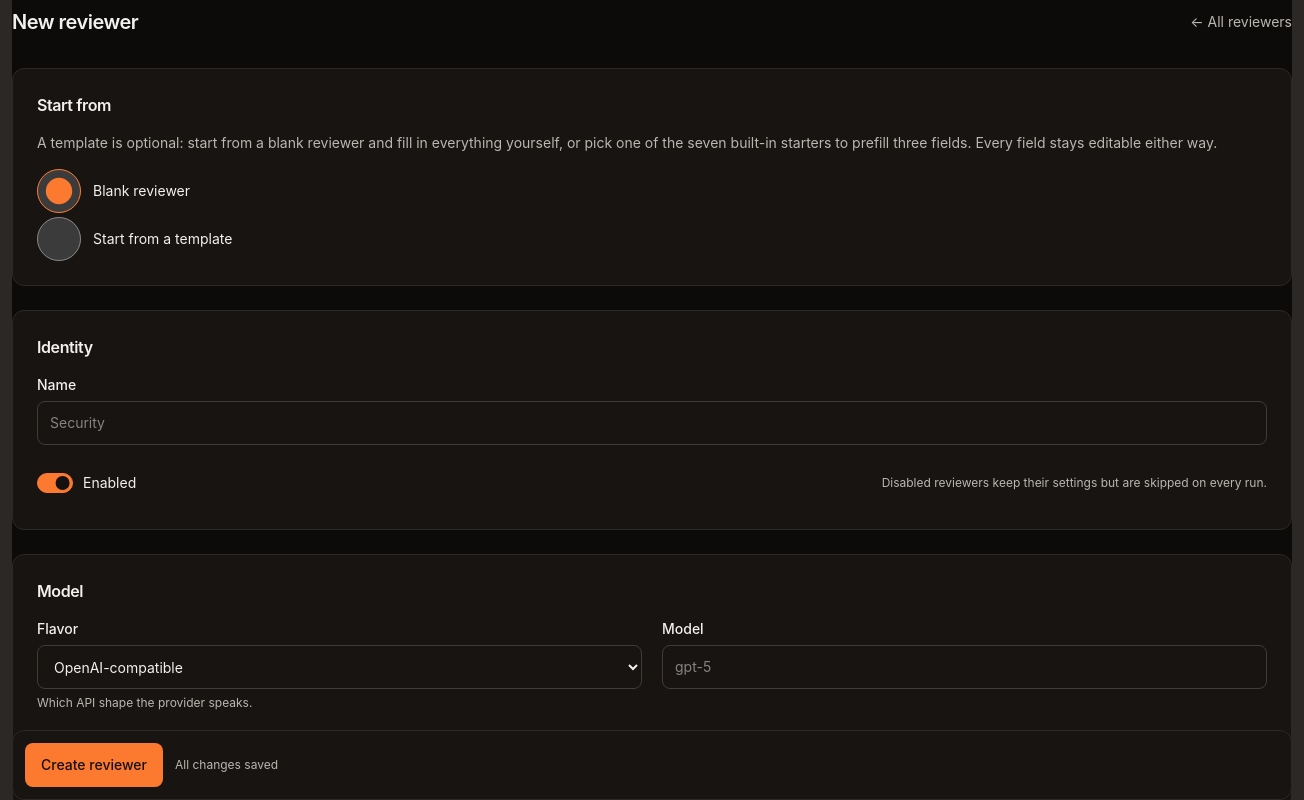
Test: new reviewer starter choice › restores the pre-template values when blank is chosen after a template
Type "Hand written" into the field labelled "Name" at (652, 423), box [37,401,1267,445]
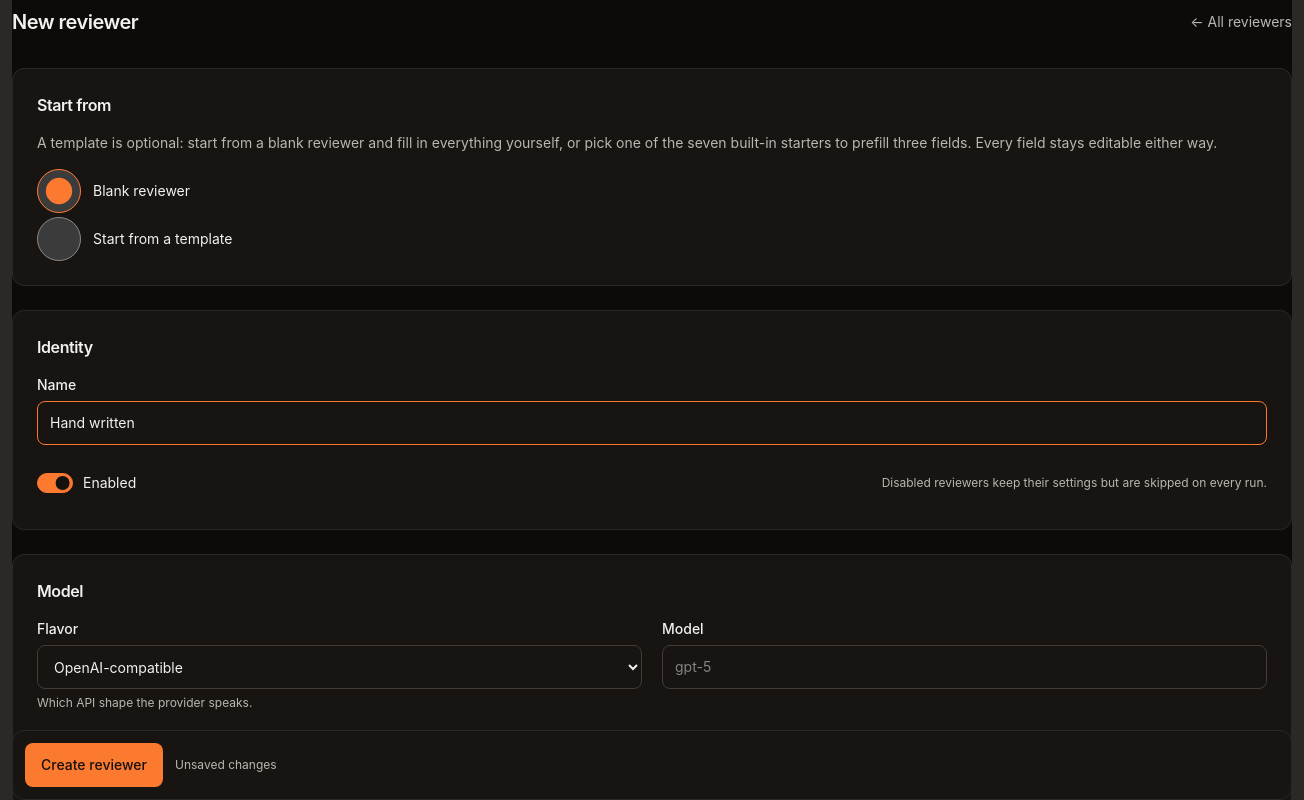
Click the radio button labelled "Start from a template" at (59, 239), box [37,217,81,261]
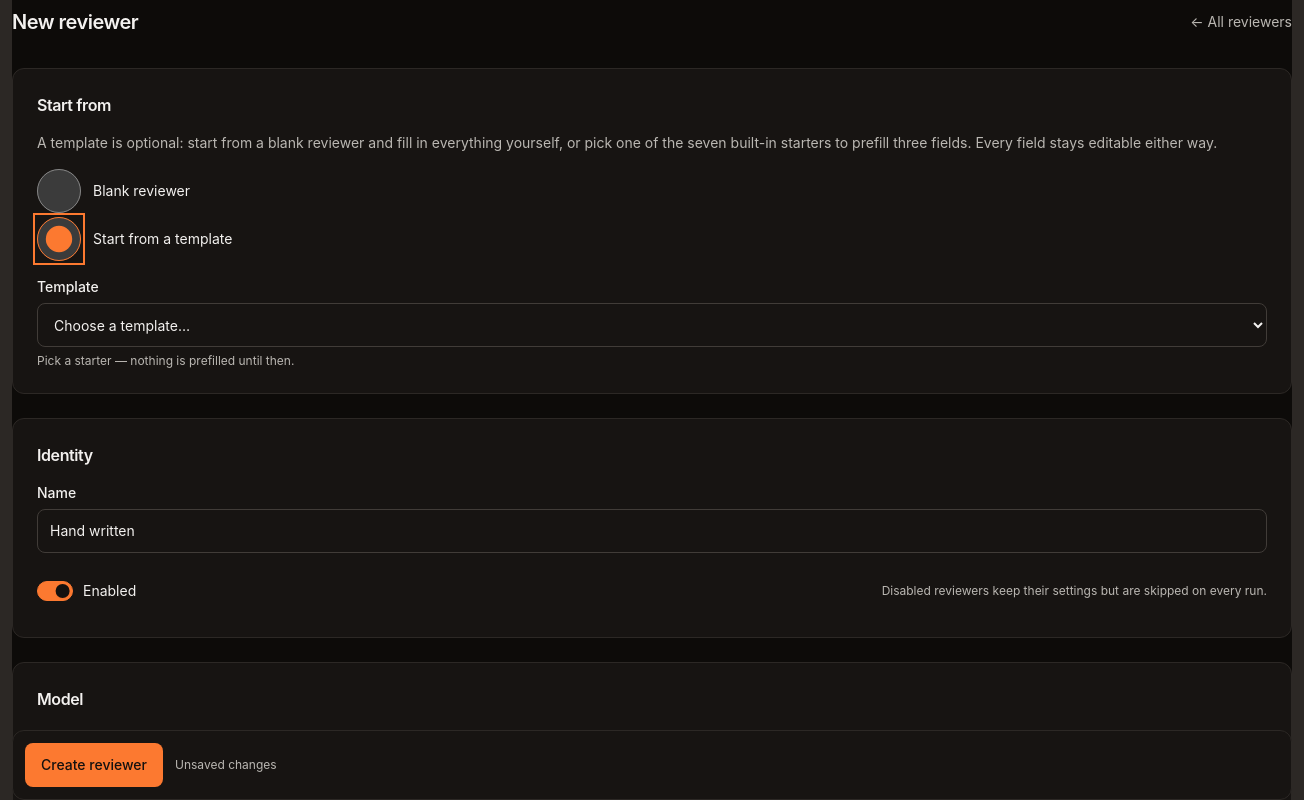
Select "Security" in the dropdown labelled "Template" at (652, 325), box [37,303,1267,347]
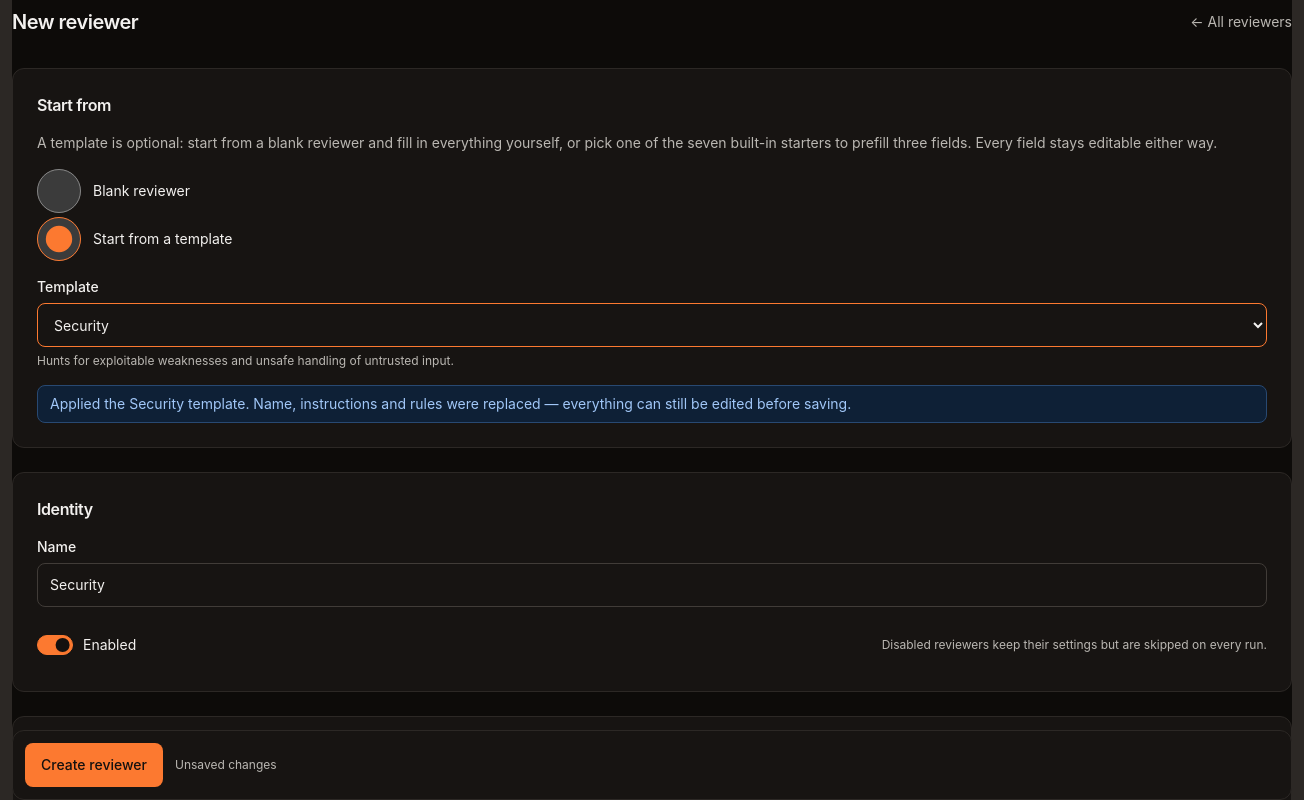
Expected: the field labelled "Name" holds "Security", [37,563,1267,607]
Click the radio button labelled "Blank reviewer" at (59, 191), box [37,169,81,213]
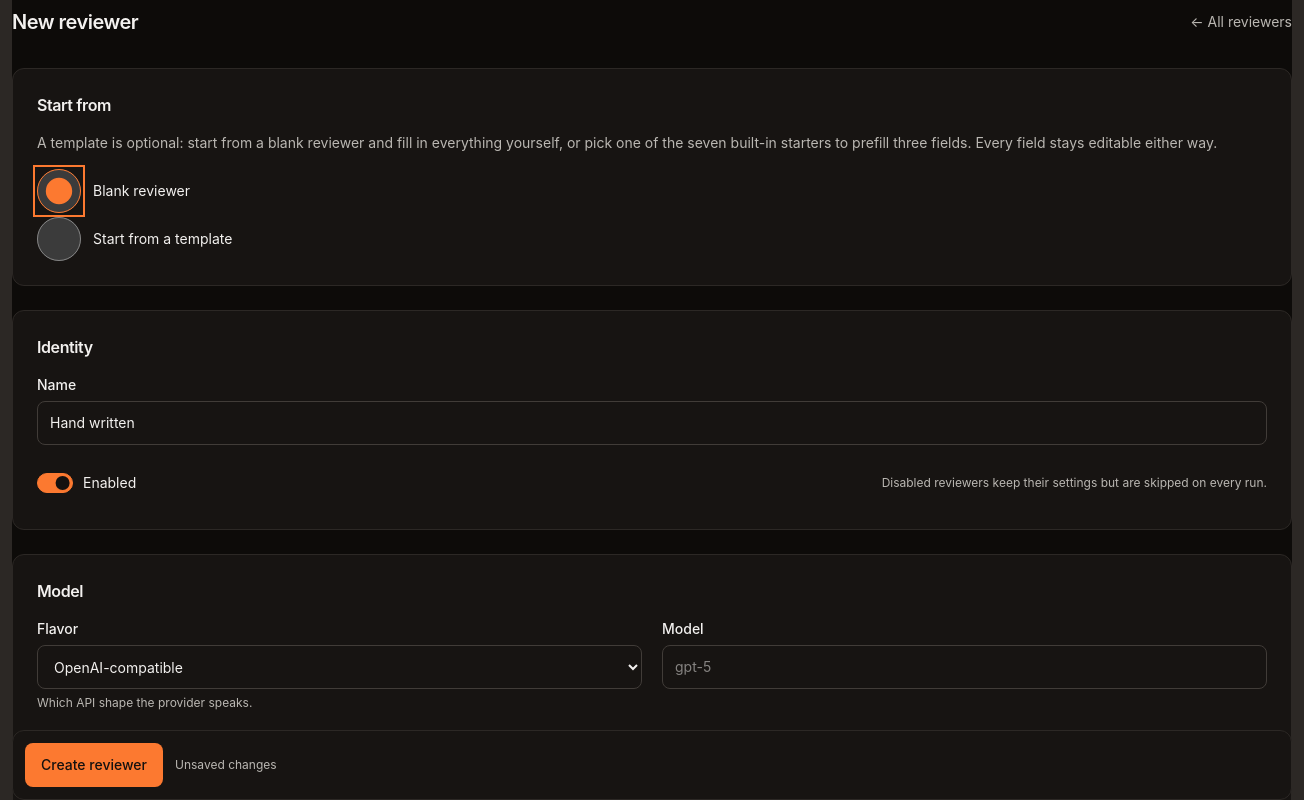
Coming back to the starter choice starts from the placeholder again, not from the undone template.
Click the radio button labelled "Start from a template" at (59, 239), box [37,217,81,261]
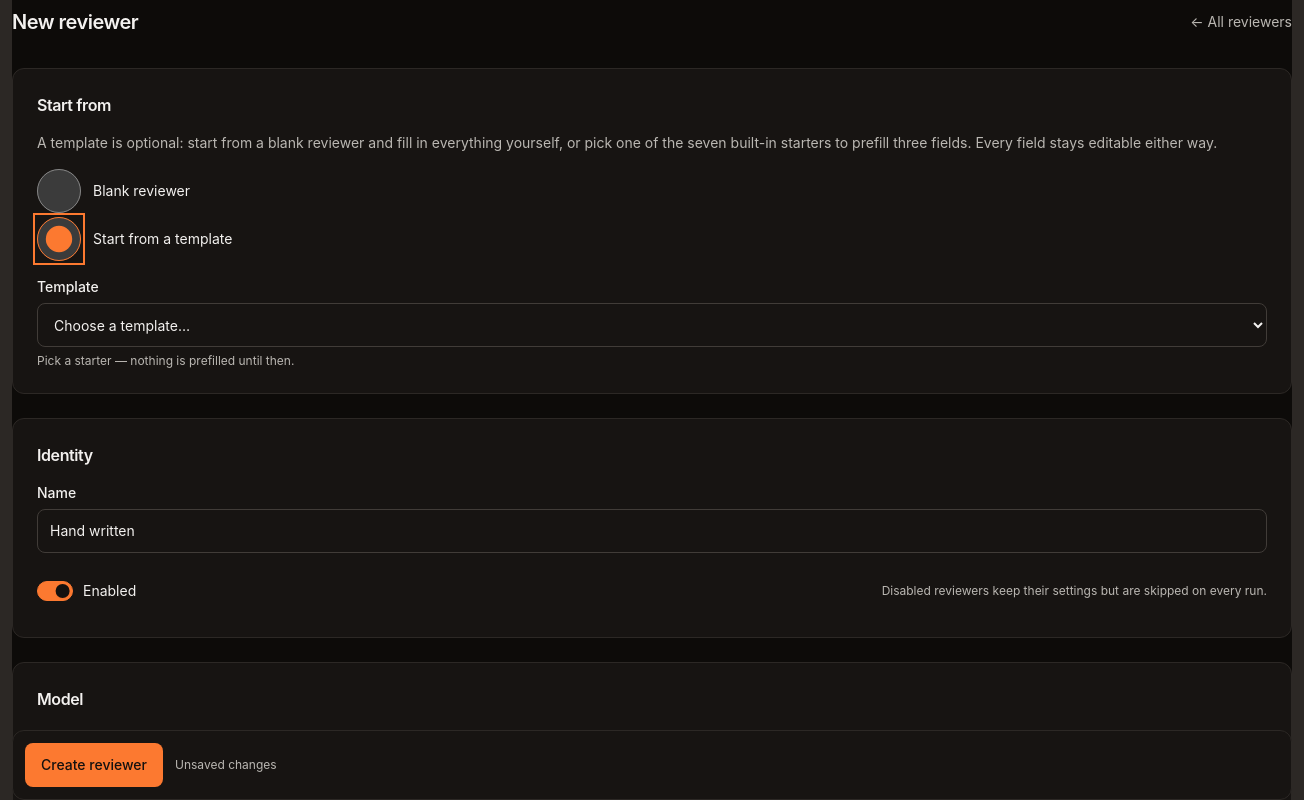
Expected: the dropdown labelled "Template" shows "Choose a template…", [37,303,1267,347]
